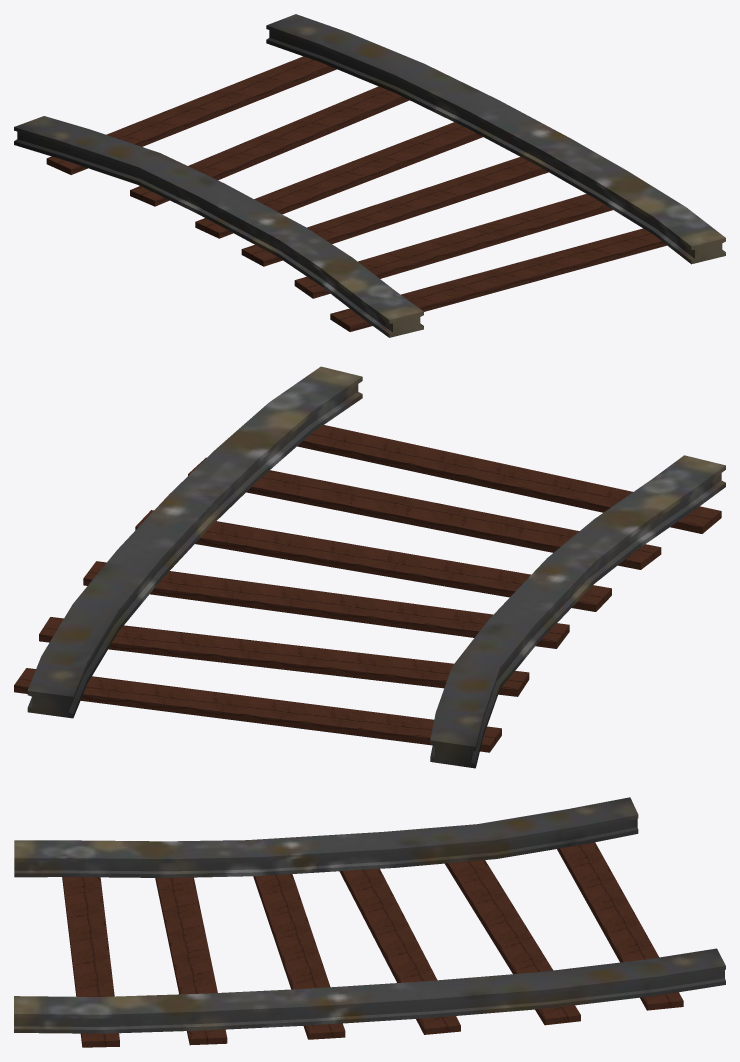
Rendered from Trilho_Curva_Menor_Esquerda.fbx.
3 renders of one model, top to bottom at view 1: azimuth 30°, elevation 25°; view 2: azimuth 150°, elevation 25°; view 3: azimuth 270°, elevation 25°, orthographic. The views are drawn at different scales.
Visible parts, largest first — view 1: Trilho.Curva.Menor.Esquerda; view 2: Trilho.Curva.Menor.Esquerda; view 3: Trilho.Curva.Menor.Esquerda.
Part boxes in pixels (left/top/right/bottom): Trilho.Curva.Menor.Esquerda: left=14, top=14, right=725, bottom=337; Trilho.Curva.Menor.Esquerda: left=14, top=366, right=725, bottom=768; Trilho.Curva.Menor.Esquerda: left=14, top=797, right=725, bottom=1047.
Bounding box in the file's own units: 251 × 12.94 × 335.
